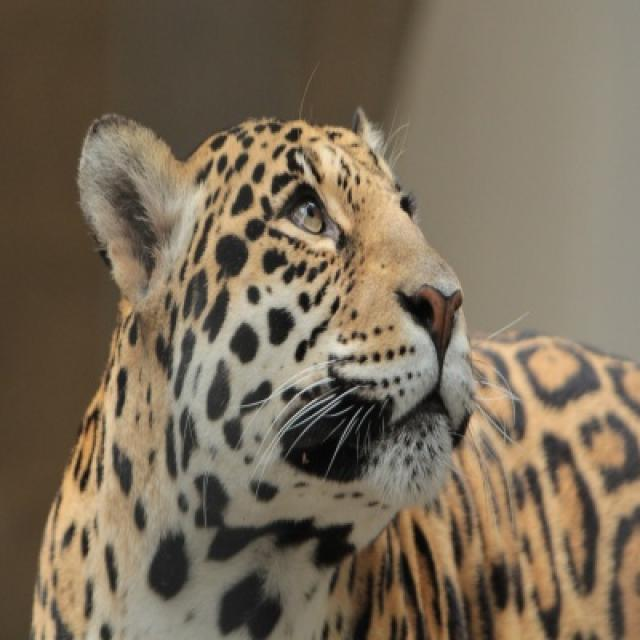Jaguar: (29, 109, 638, 638)
